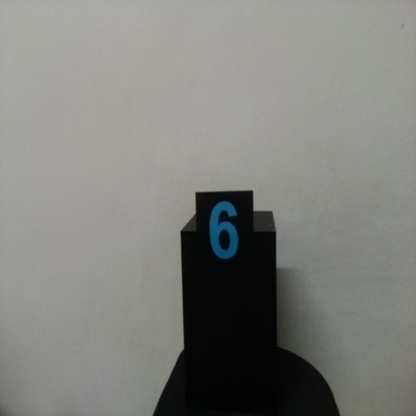id_6: (193, 191, 253, 281)
